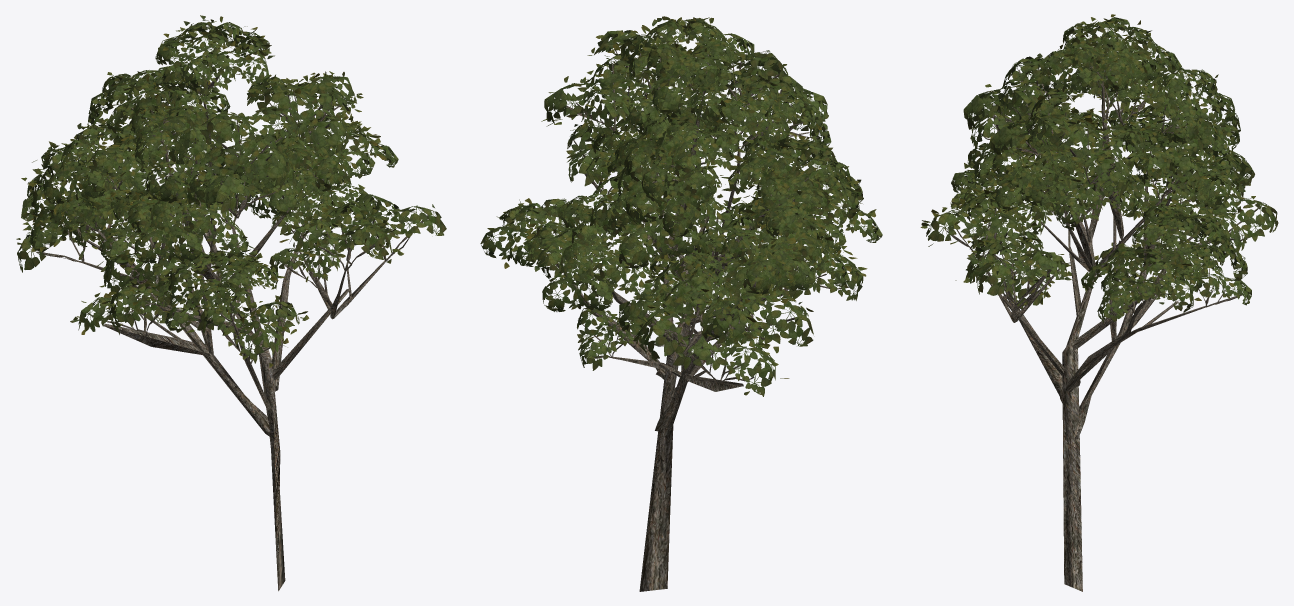
File: tree_urban.glb
The picture shows the model from 3 angles, left to right: view 1: azimuth 30°, elevation 25°; view 2: azimuth 150°, elevation 25°; view 3: azimuth 270°, elevation 25°; orthographic projection. The views are drawn at different scales.
Visible parts, largest first — view 1: trunk; view 2: trunk; view 3: trunk.
Part boxes in pixels (x1,y1,x2,y2): trunk: (16, 15, 446, 591); trunk: (480, 16, 882, 591); trunk: (920, 14, 1278, 591).
Bounding box in the file's own units: 5.74 × 8.99 × 5.53.
2 materials, 2 textured.
